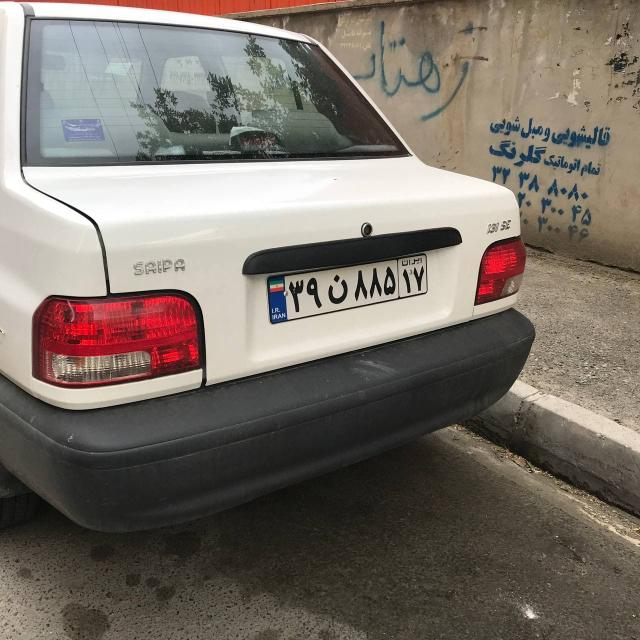Plates: (261, 245, 433, 324)
